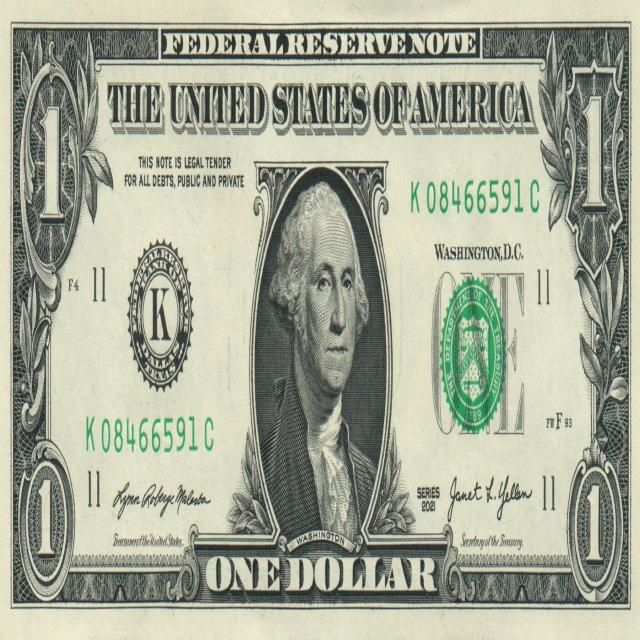SerialNumber: (86, 417, 213, 453), (411, 179, 539, 214)
